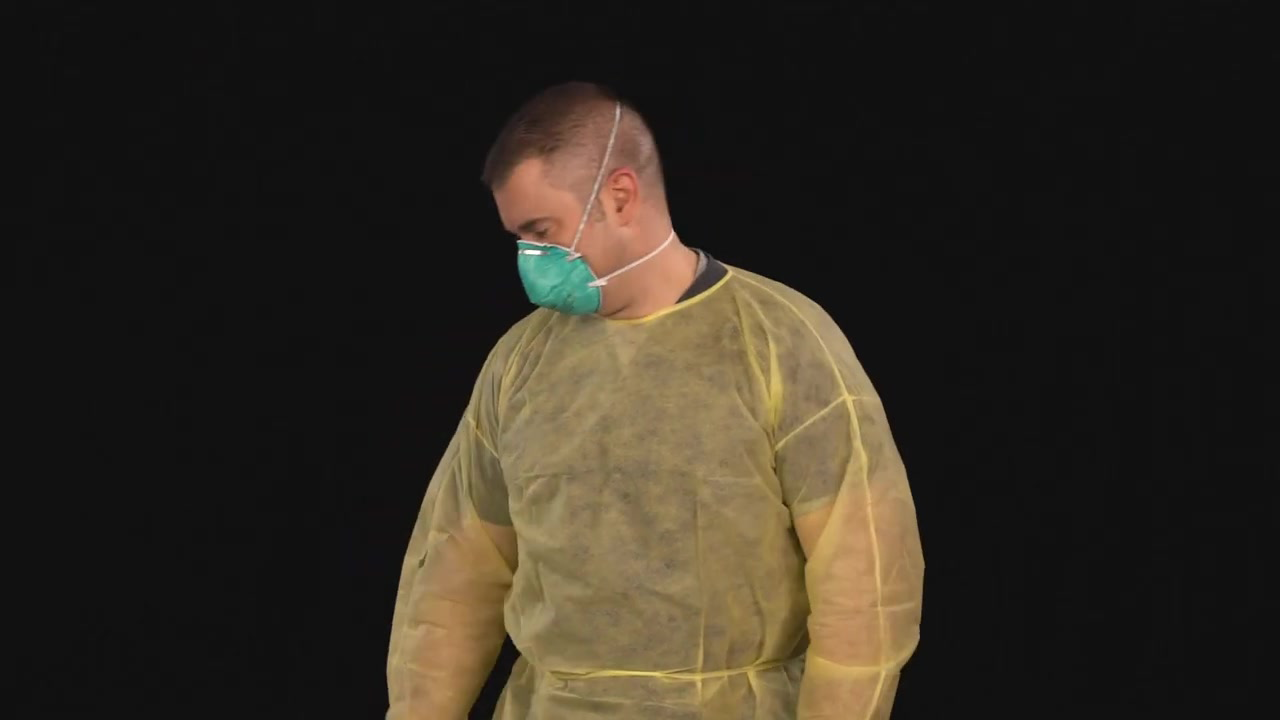Coverall: (445, 303, 911, 720)
with_mask: (492, 221, 600, 321)
